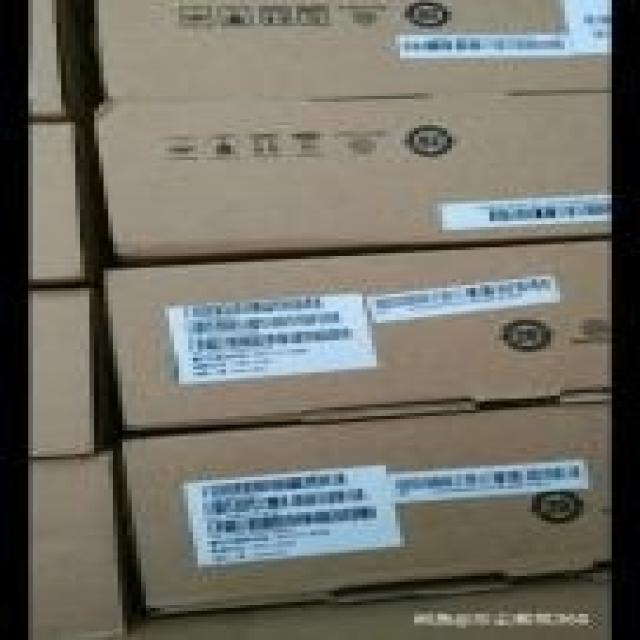box: (128, 402, 612, 614), (99, 240, 613, 431), (90, 92, 607, 259), (95, 1, 610, 102), (136, 569, 613, 637), (26, 449, 123, 637), (28, 118, 97, 284), (27, 285, 93, 455), (29, 1, 96, 119)
